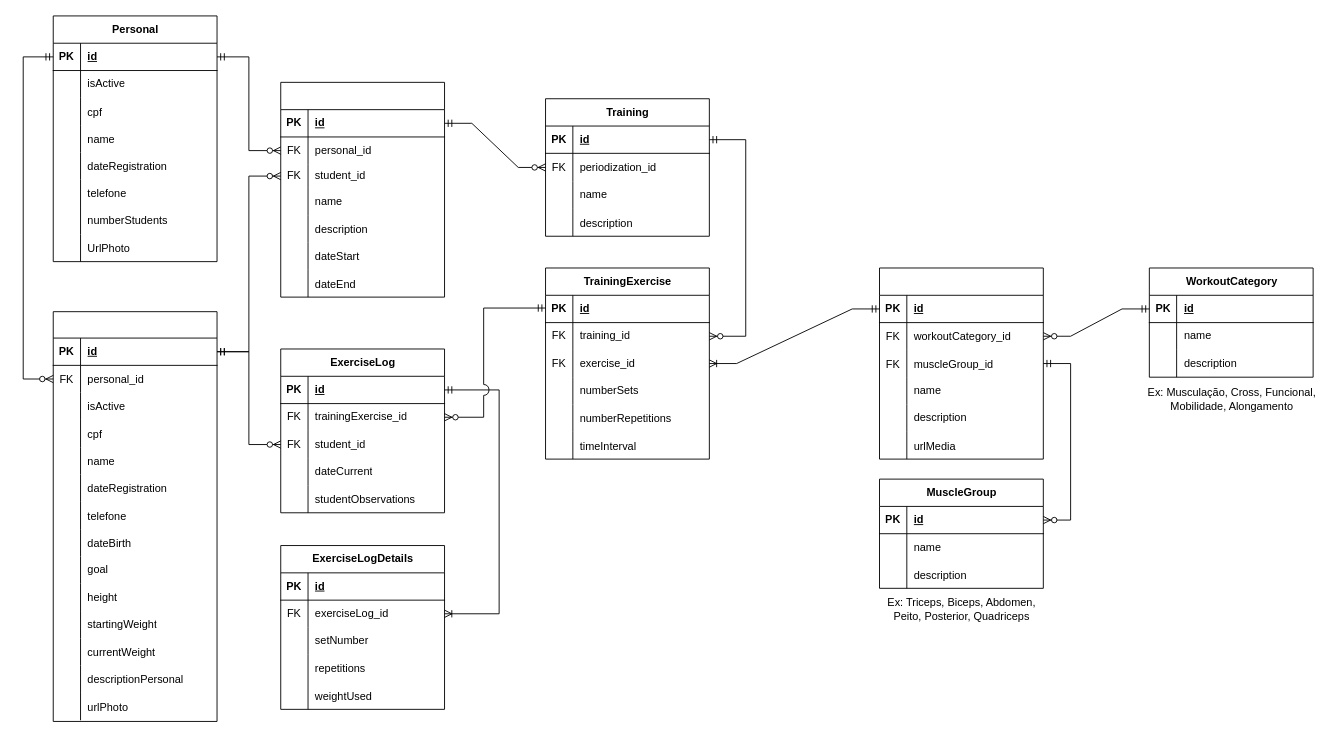
This 1340x738 diagram has some shape labels left out. Each missing label, with the box of its shape:
Exercise: (879, 267, 1043, 459)
Periodization: (280, 81, 445, 297)
Student: (52, 311, 217, 721)
